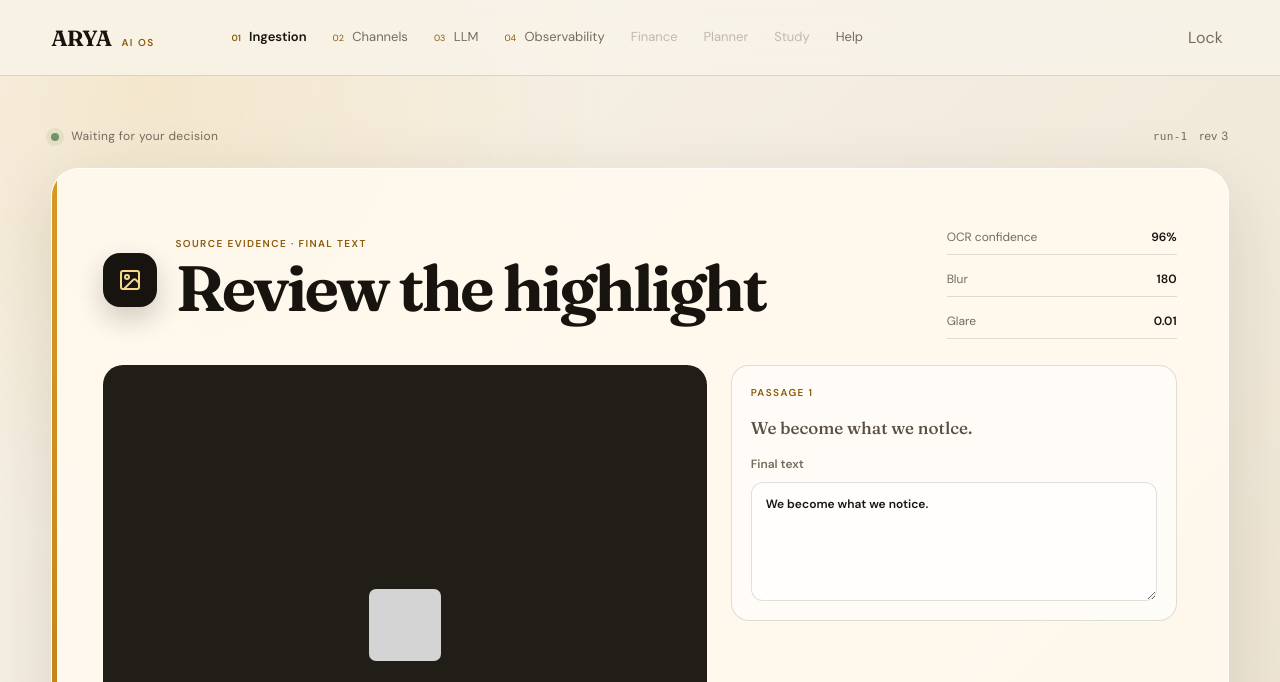
Test: draft lifecycle › retains the draft when the submission is rejected
This screenshot has width=1280, height=682.
Replace the text in the text box labelled "Final text" with "My careful edit" at (954, 541), box top-left (751, 482), bottom-right (1157, 601)
(page scrolled)
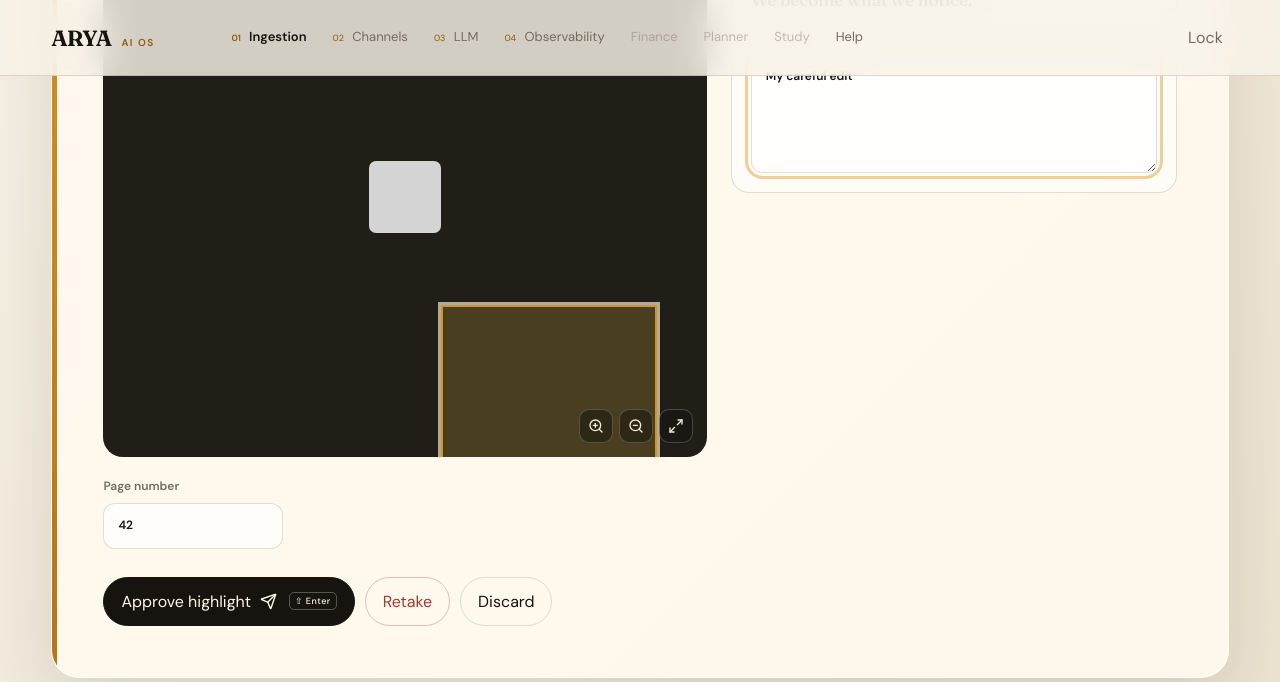
Click the button "Approve highlight ⇧ Enter" at (229, 601), box top-left (103, 576), bottom-right (355, 626)
(page scrolled)
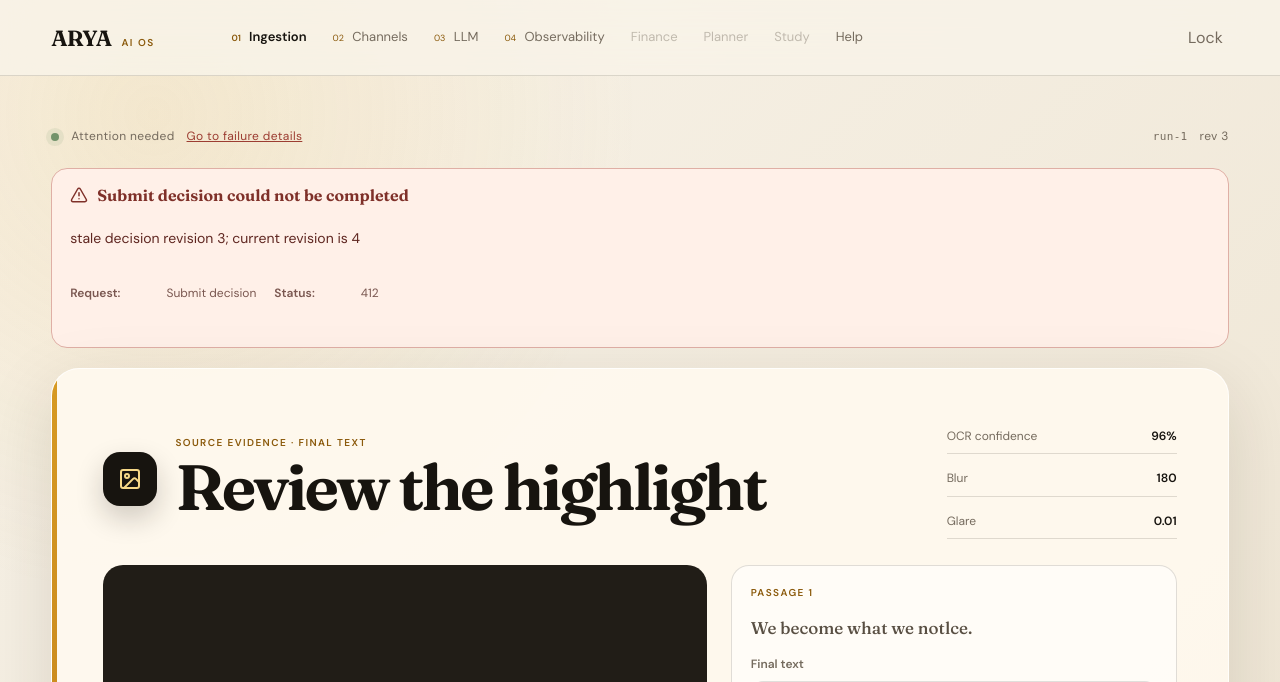
Now the text "stale decision revision 3; current revision is 4" is shown, box top-left (70, 229), bottom-right (360, 247)
